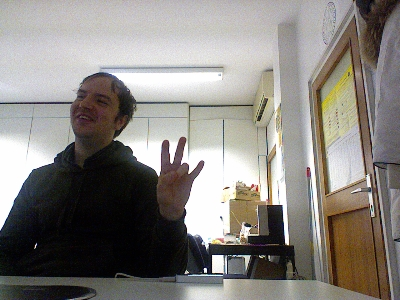观音: (154, 136, 205, 222)
